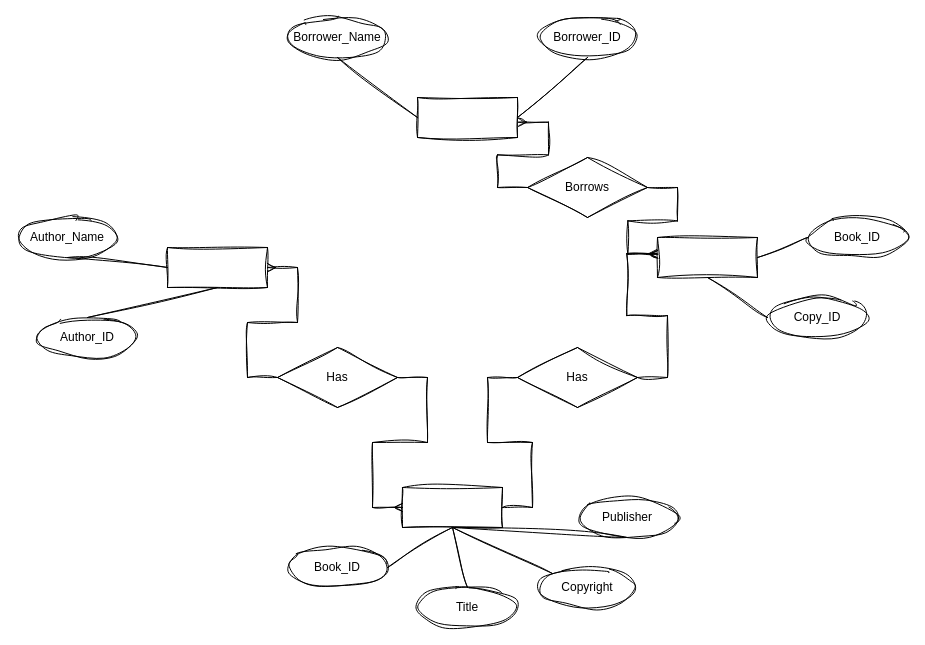
This 925x645 diagram has some shape labels left out. Here are the shapes that lost their labels. From the top down, the centre of each, then its label:
At pixel 467 117: "Borrower".
At pixel 217 267: "Author".
At pixel 707 257: "Copy Book".
At pixel 452 507: "Title Book".
